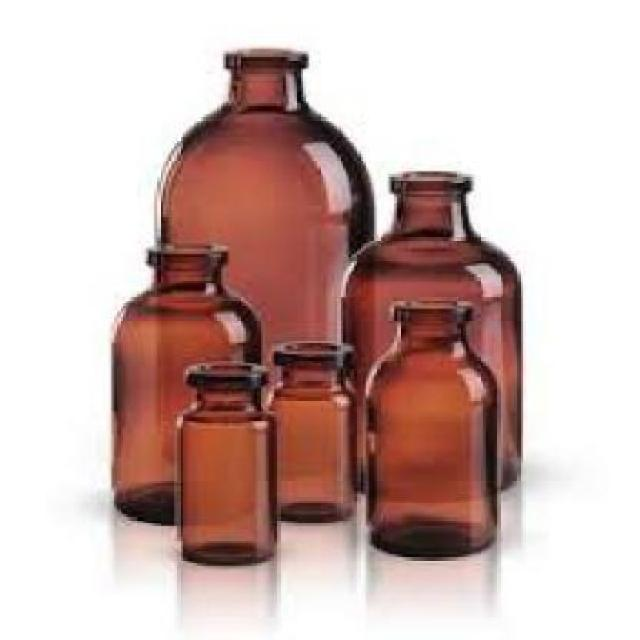kaca: (156, 46, 376, 380), (337, 169, 523, 497), (109, 243, 257, 531), (363, 294, 497, 557), (175, 360, 272, 566), (260, 340, 357, 520)
